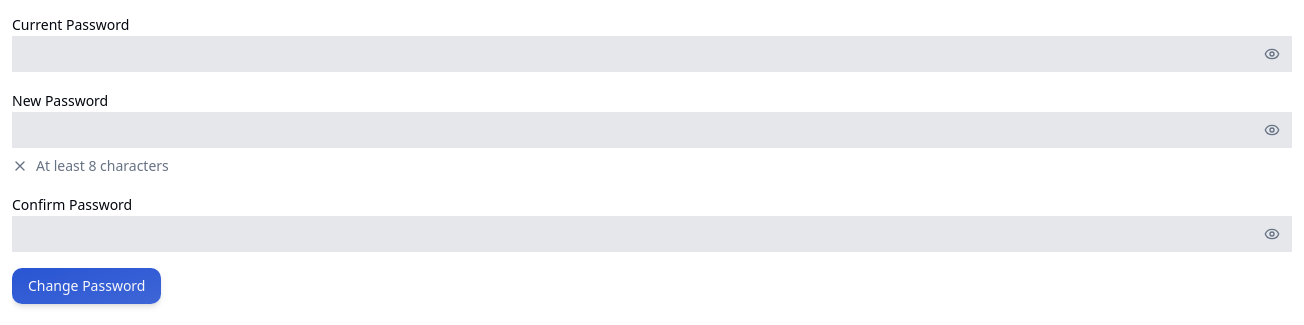
Test: ChangePasswordForm › shows loading state while submitting
Type "oldpassword" into the password field with test id "current-password-input" at (652, 54), box [12,36,1292,72]
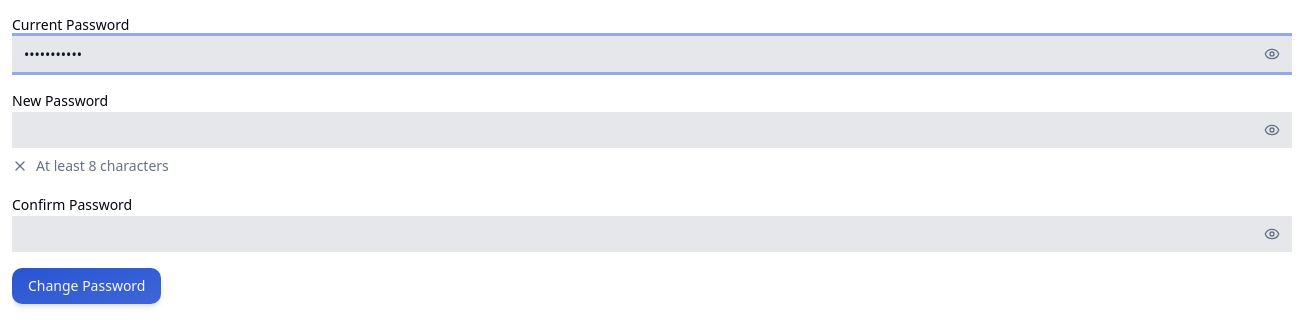
Type "newpassword123" into the password field with test id "new-password-input" at (652, 130), box [12,112,1292,148]
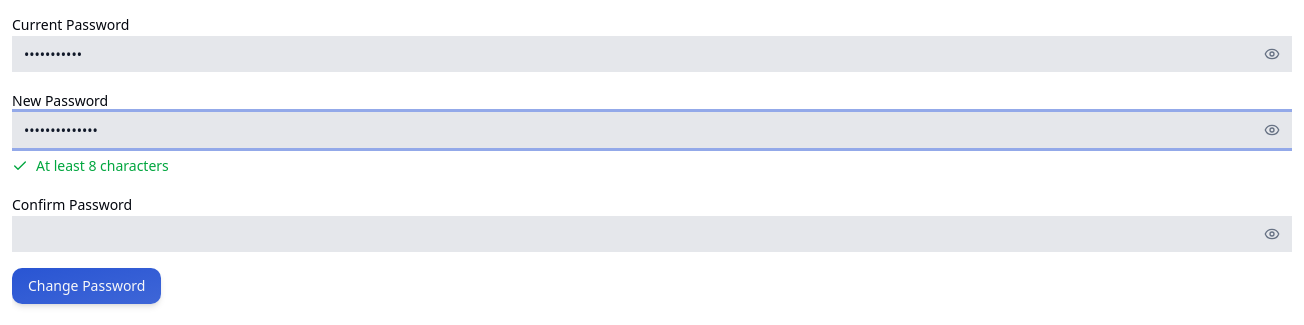
Type "newpassword123" into the password field with test id "confirm-password-input" at (652, 234), box [12,216,1292,252]
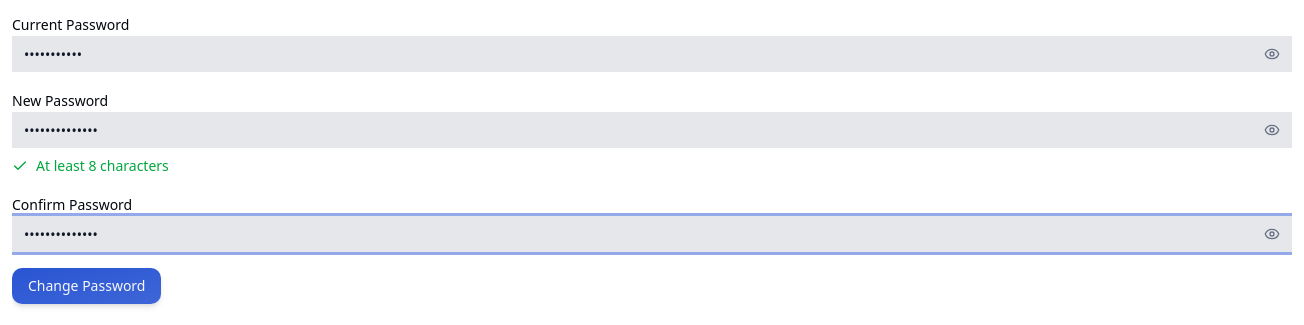
Click the button with test id "change-password-submit" at (87, 286), box [12,268,162,304]
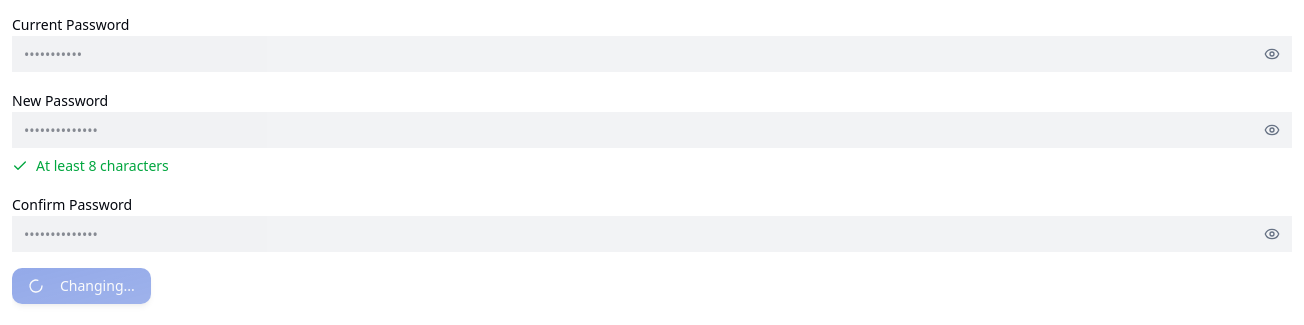
Check: the button with test id "change-password-submit" is disabled, box [12,268,151,304]
